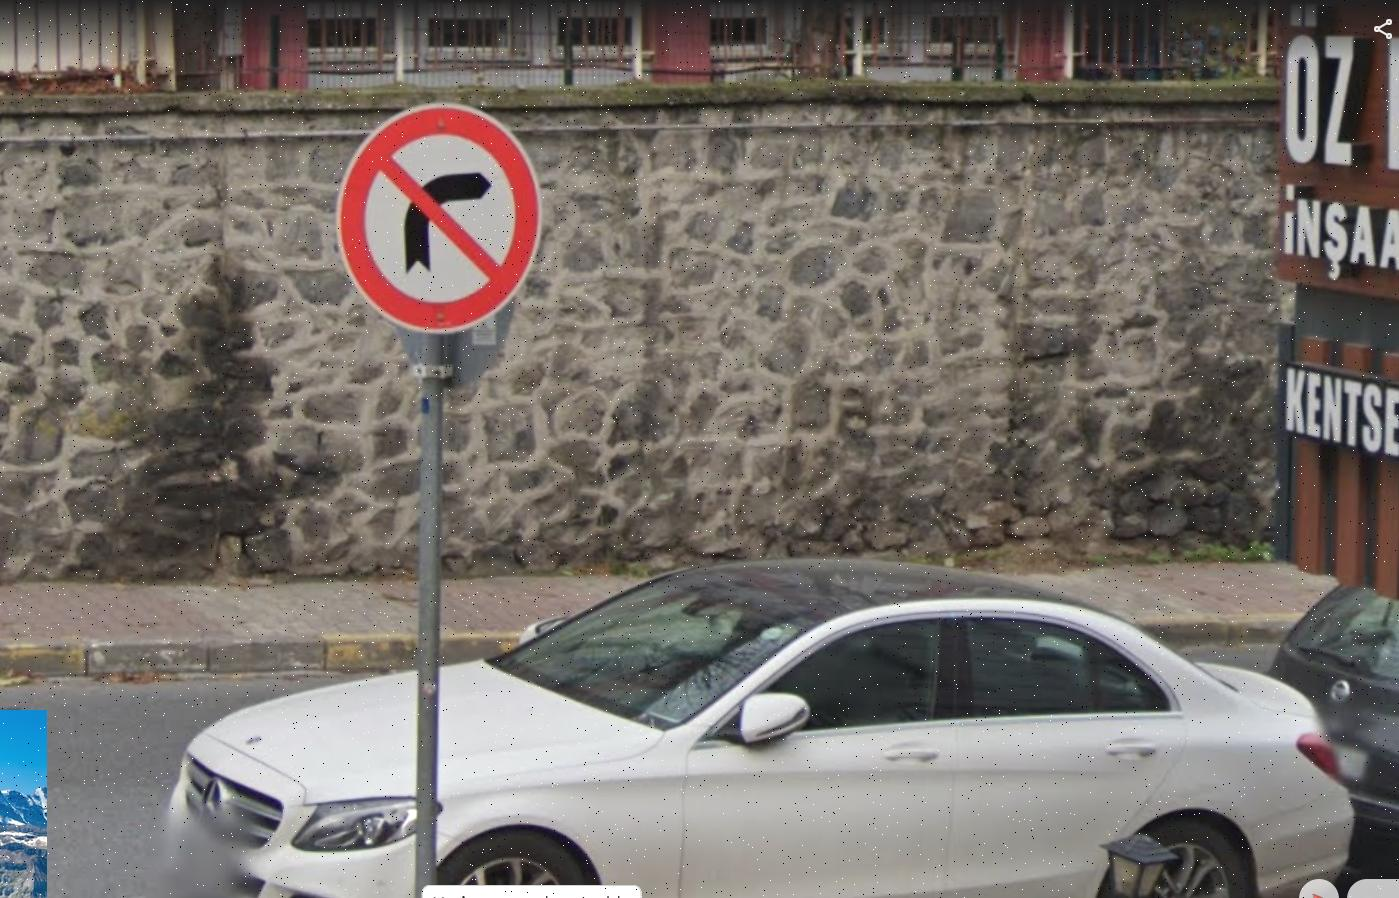rightturnsareforbidden: (342, 106, 538, 330)
